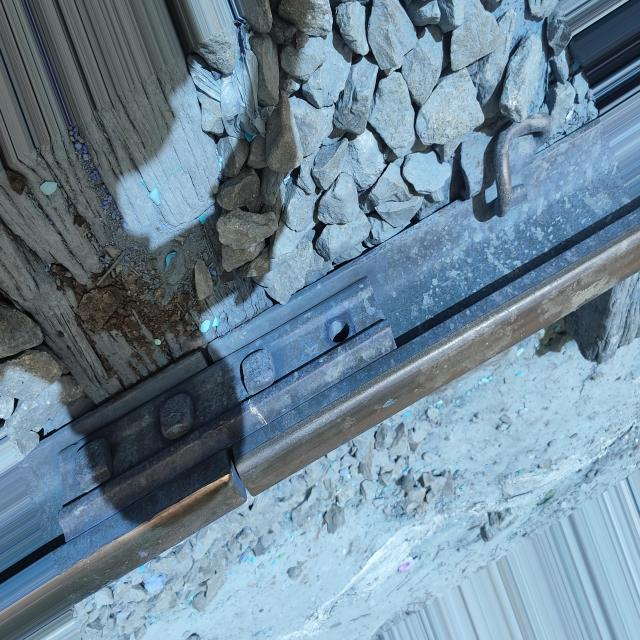Defective Joint: (47, 272, 401, 551)
Good Fasteners: (449, 98, 560, 242)
